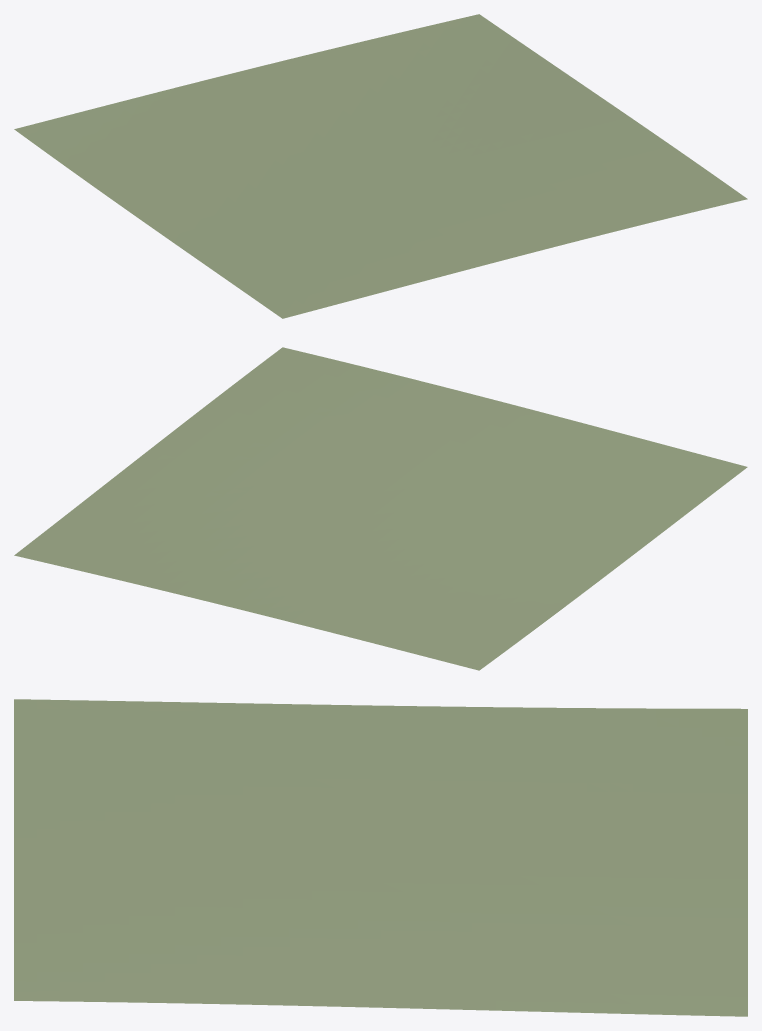
Rendered from expanse-19-28.glb.
The picture shows the model from 3 angles, top to bottom: view 1: azimuth 30°, elevation 25°; view 2: azimuth 150°, elevation 25°; view 3: azimuth 270°, elevation 25°; orthographic projection. The views are drawn at different scales.
Parts seen in each view (by area): view 1: expanse-19-28; view 2: expanse-19-28; view 3: expanse-19-28.
Part boxes in pixels (x1=…): expanse-19-28: x1=14, y1=14, x2=747, y2=318; expanse-19-28: x1=14, y1=347, x2=747, y2=670; expanse-19-28: x1=14, y1=699, x2=747, y2=1016.
Size of the model in its own units: 256 by 7.07 by 256.
